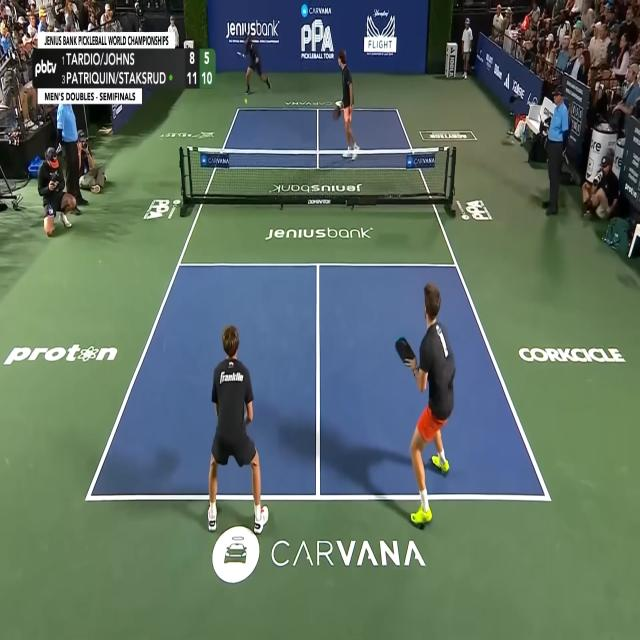ball: (244, 98, 247, 104)
